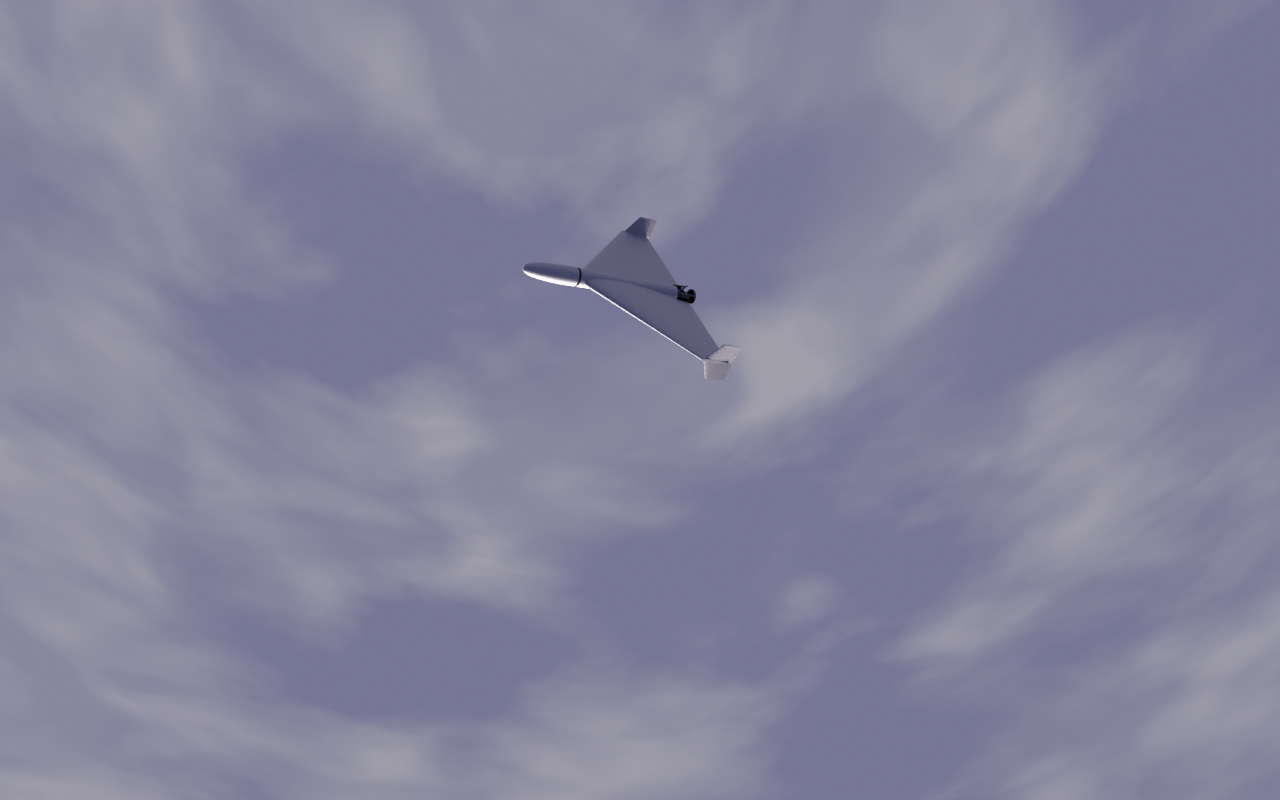shahed: (523, 217, 744, 383)
